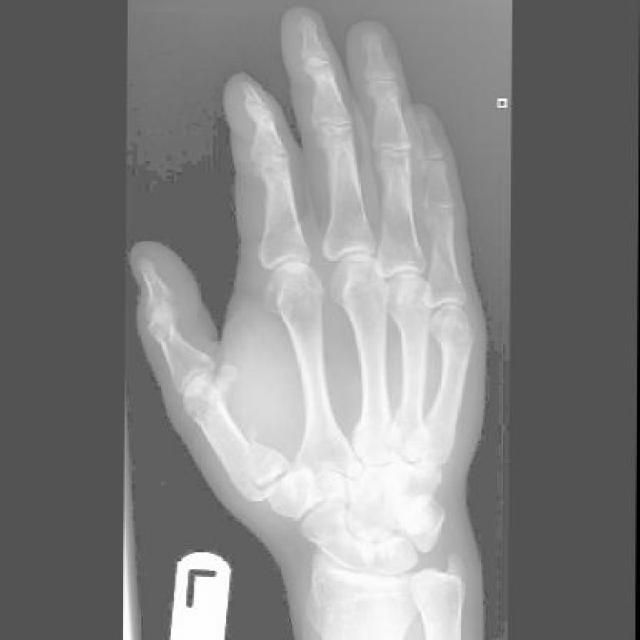Fracture: (237, 437, 293, 502)
